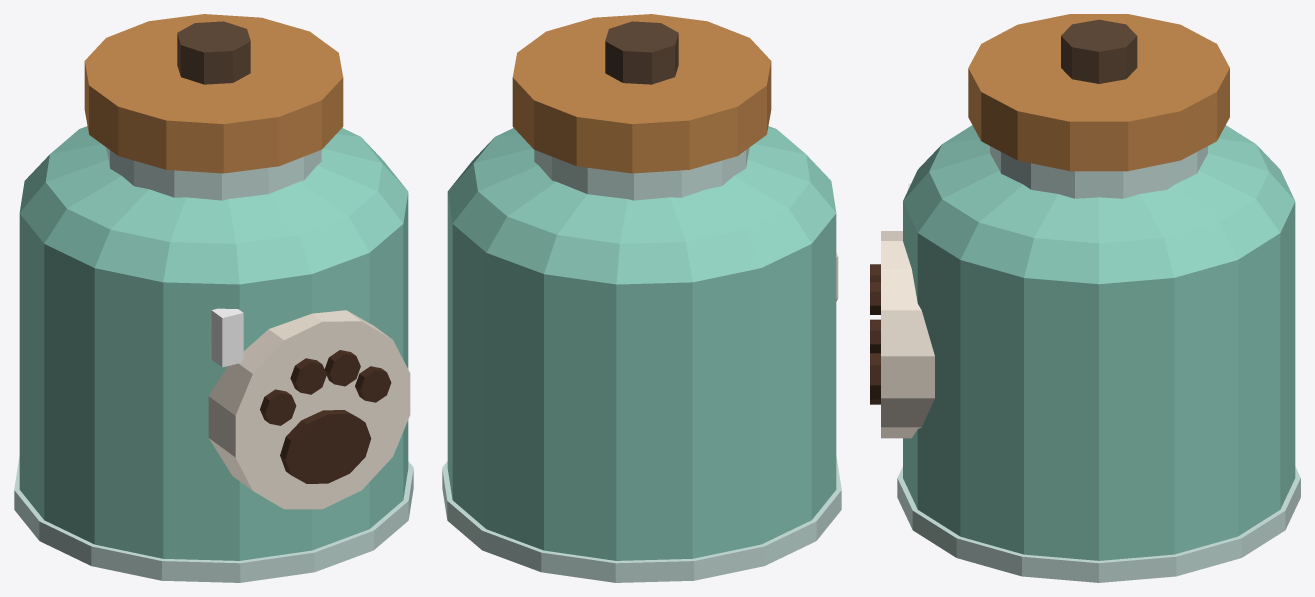
The model's file is CatCafe_Prop_Potion_Steady.glb.
The picture shows the model from 3 angles, left to right: view 1: azimuth 30°, elevation 25°; view 2: azimuth 150°, elevation 25°; view 3: azimuth 270°, elevation 25°; orthographic projection.
Parts seen in each view (by area): view 1: CatCafe_Prop_Potion_Steady; view 2: CatCafe_Prop_Potion_Steady; view 3: CatCafe_Prop_Potion_Steady.
Boxes of the visible parts, x1,y1,x2,y2 form: CatCafe_Prop_Potion_Steady: (14,14,413,582); CatCafe_Prop_Potion_Steady: (442,14,841,582); CatCafe_Prop_Potion_Steady: (870,14,1300,582).
Size of the model in its own units: 0.74 by 0.935 by 0.79.
1 material, 1 textured.
